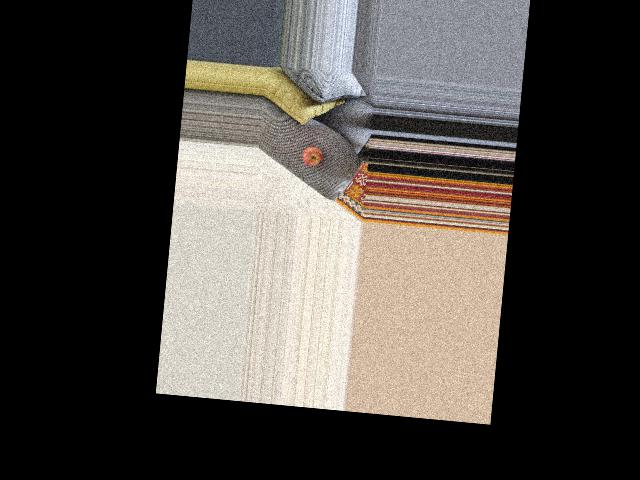apple: (301, 144, 325, 167)
